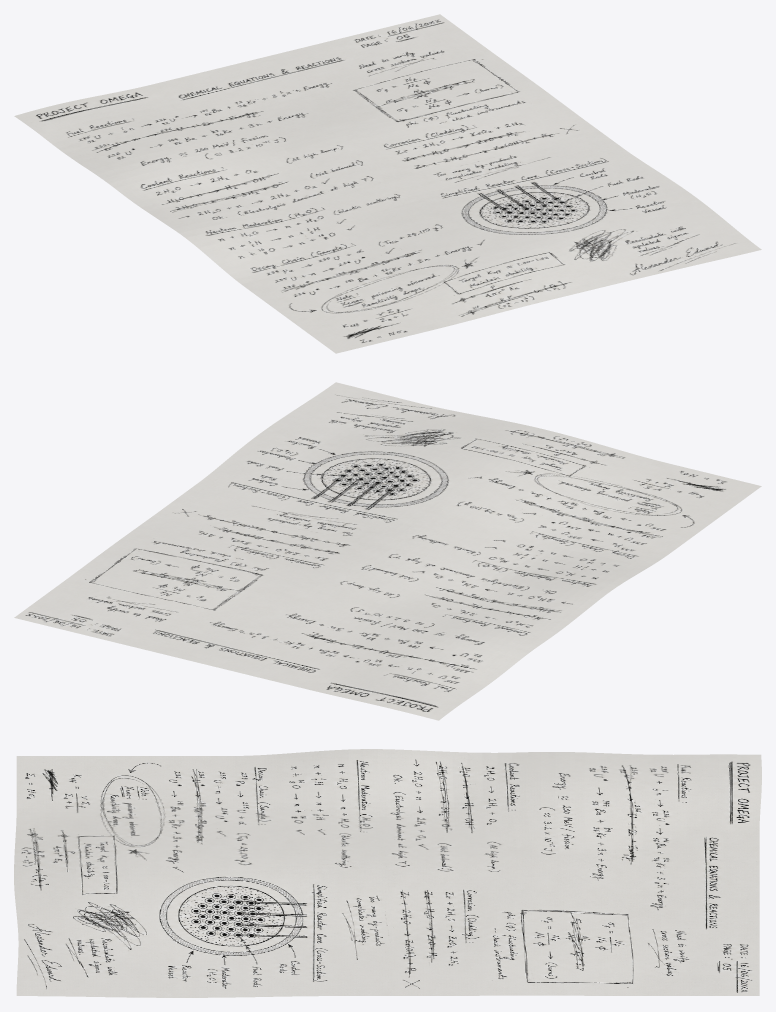
The model's file is ChemicalReactionImage.fbx.
3 views of the same model, one above another, from view 1: azimuth 30°, elevation 25°; view 2: azimuth 150°, elevation 25°; view 3: azimuth 270°, elevation 25° (orthographic). The views are drawn at different scales.
Parts seen in each view (by area): view 1: Plane; view 2: Plane; view 3: Plane.
Part boxes in pixels (x1=…): Plane: x1=14, y1=14, x2=761, y2=353; Plane: x1=14, y1=382, x2=761, y2=720; Plane: x1=14, y1=749, x2=761, y2=997.
Bounding box in the file's own units: 46.32 × 0.7762 × 60.41.
1 material, 1 textured.
